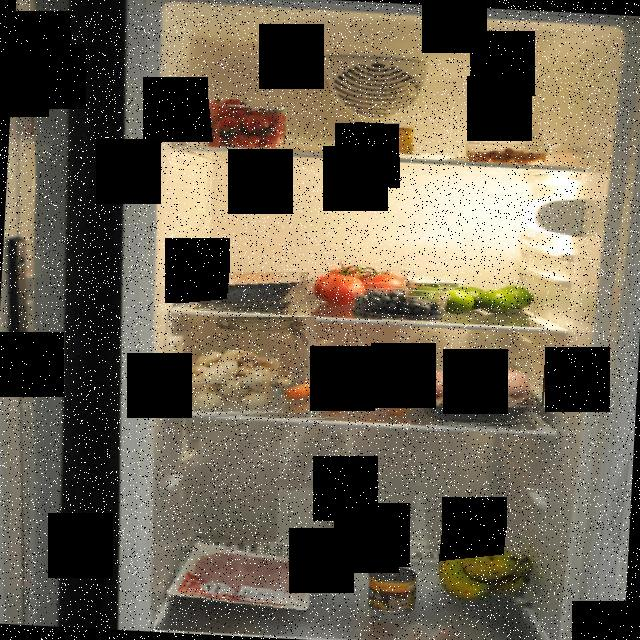banana: (434, 530, 544, 614)
beef: (186, 272, 310, 312)
blueberries: (348, 291, 446, 324)
carrot: (277, 368, 423, 421)
cheese: (356, 121, 422, 158)
chicken: (419, 363, 547, 428)
corn: (362, 564, 421, 618)
flour: (205, 317, 316, 393)
goat_cheese: (398, 276, 466, 300)
ham: (191, 546, 310, 610)
lime: (404, 280, 534, 320)
mushrooms: (178, 350, 294, 420)
shrimp: (468, 148, 548, 166)
strawberries: (196, 94, 286, 154)
tomato: (309, 259, 407, 312)
